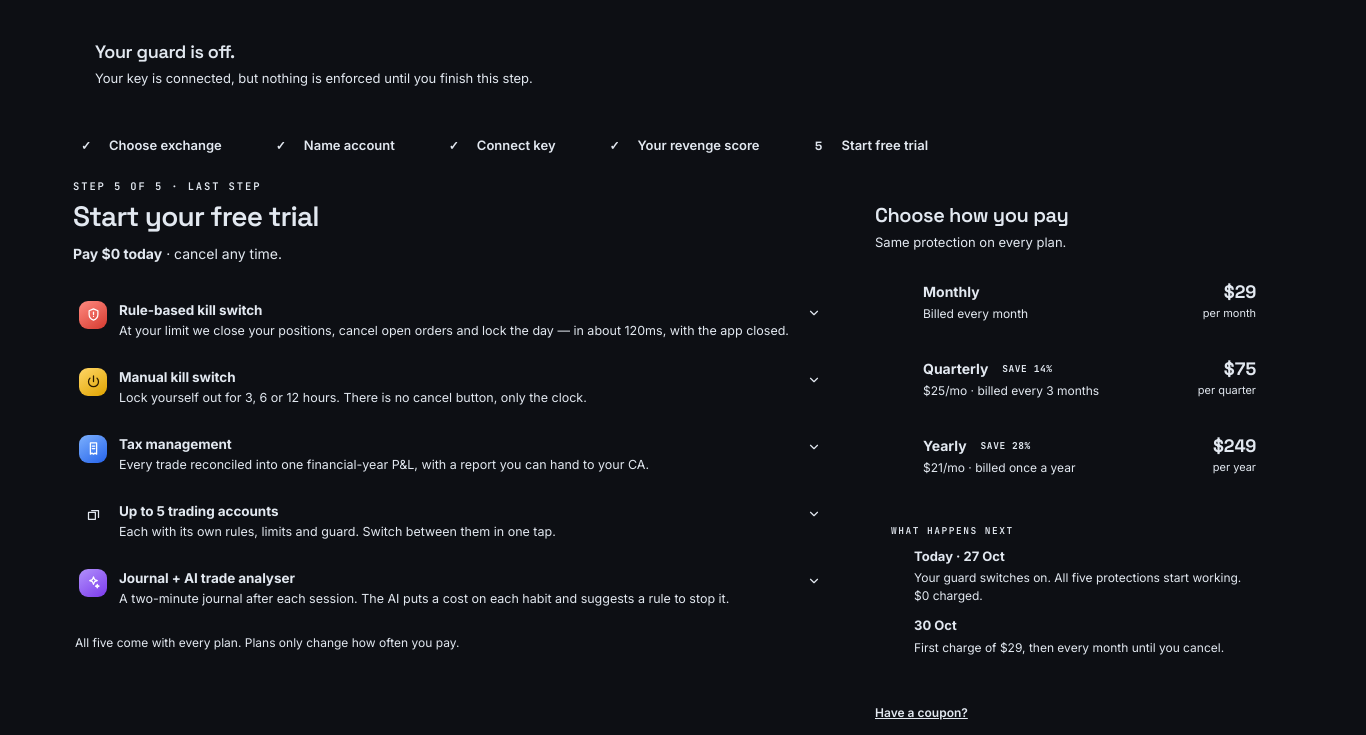
Scenario: billing step › keeps the detail behind an accordion, closed by default
Step 1. Click the button "Rule-based kill switch" → (450, 320), box [73,287,827,354]
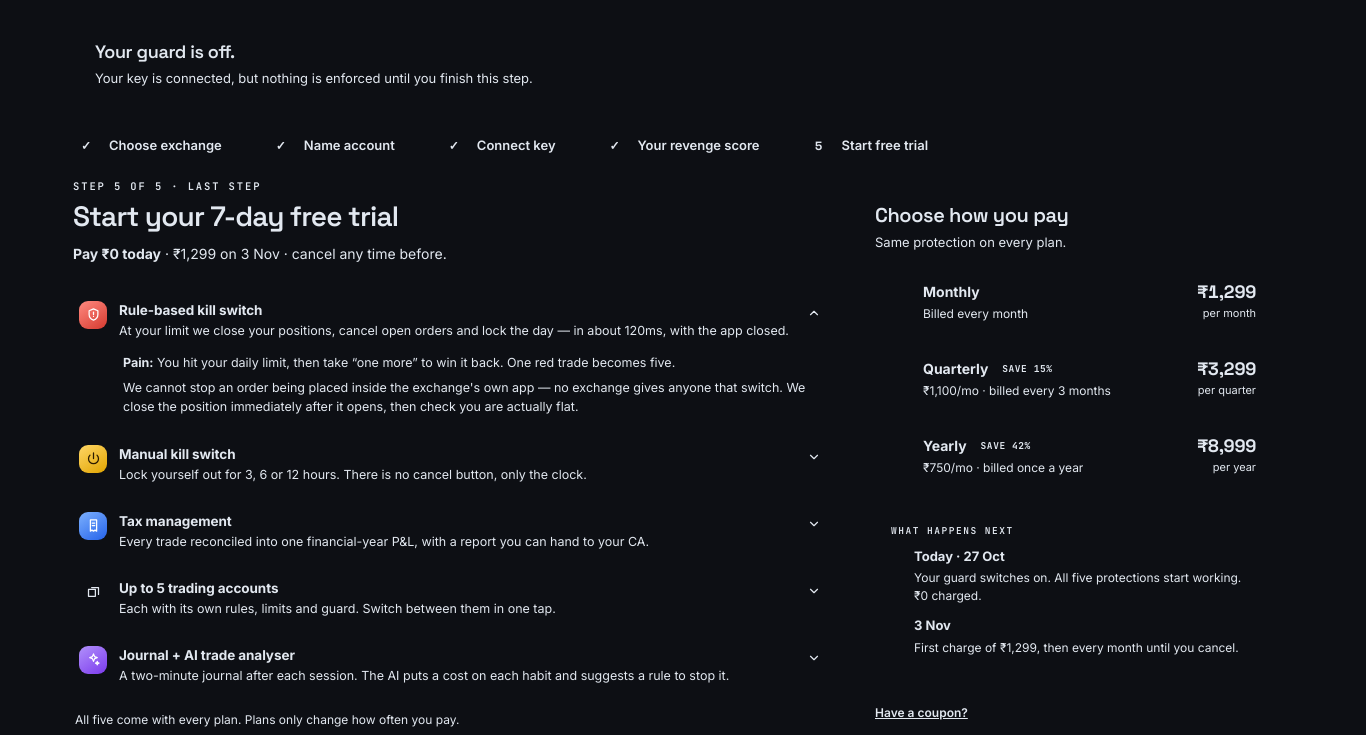
Check: the button "Rule-based kill switch" is expanded, box [73,287,827,354]
Check: the text "One red trade becomes five" is shown, box [157,355,675,370]
